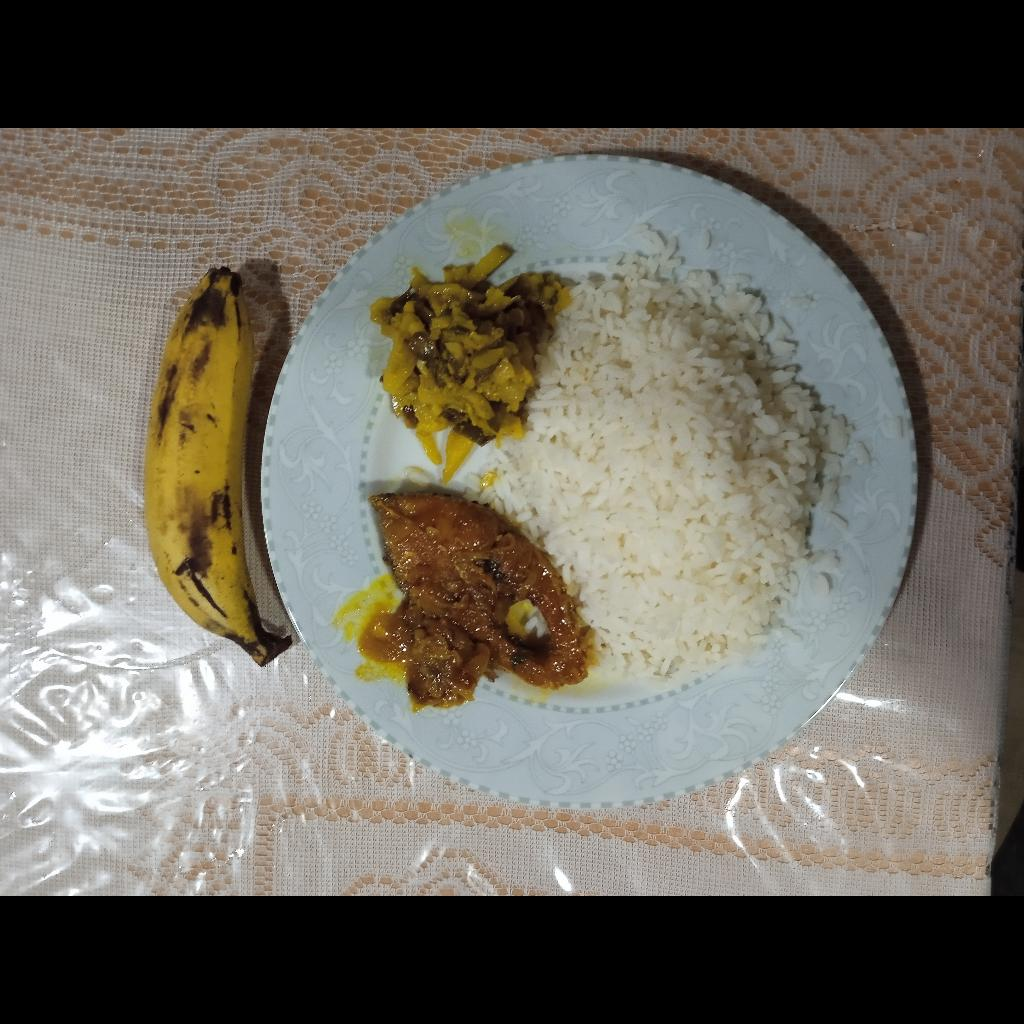banana: (145, 266, 293, 667)
fish: (371, 493, 590, 690)
rice: (466, 222, 858, 690)
vegetable: (368, 245, 575, 485)
